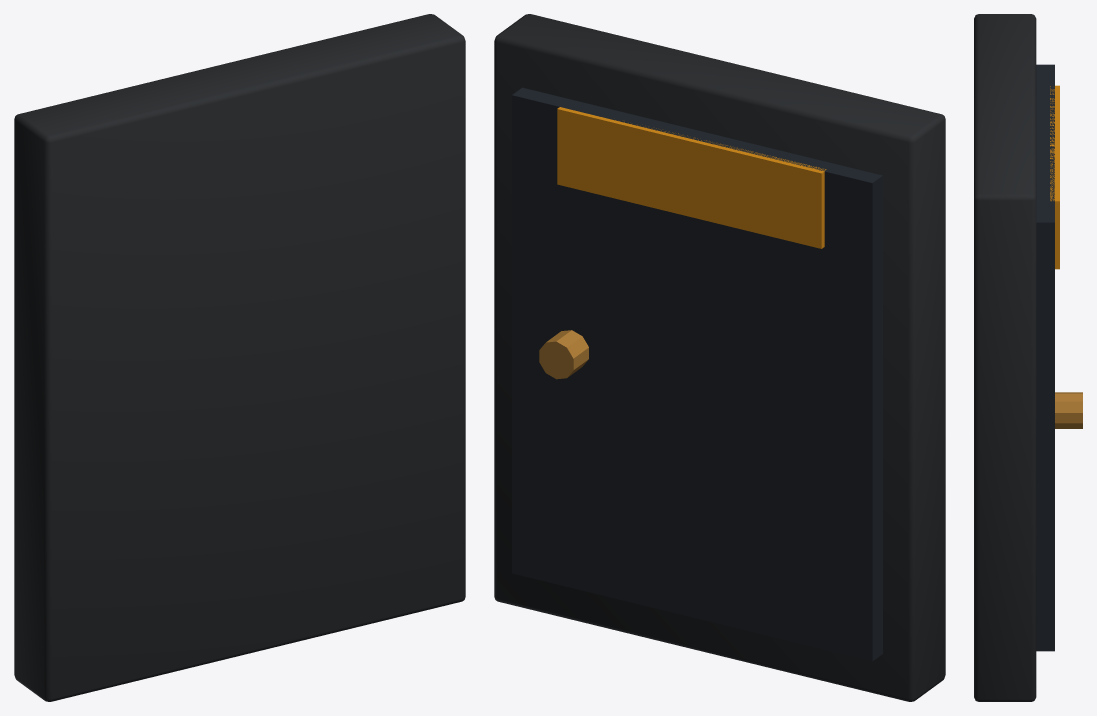
The model's file is hm_bank_access_panel_v2.obj.
3 renders of one model, left to right at view 1: azimuth 30°, elevation 25°; view 2: azimuth 150°, elevation 25°; view 3: azimuth 270°, elevation 25°, orthographic. The views are drawn at different scales.
Parts seen in each view (by area): view 1: AC_Panel; view 2: AC_Door, AC_Panel, AC_Warn, AC_Lock; view 3: AC_Panel, AC_Door, AC_Warn, AC_Lock.
Boxes of the visible parts, x1=… form: AC_Panel: x1=14, y1=14, x2=465, y2=701; AC_Door: x1=512, y1=87, x2=882, y2=661; AC_Panel: x1=494, y1=14, x2=945, y2=701; AC_Warn: x1=557, y1=107, x2=826, y2=248; AC_Lock: x1=539, y1=330, x2=588, y2=379; AC_Panel: x1=974, y1=14, x2=1036, y2=701; AC_Door: x1=1036, y1=64, x2=1054, y2=651; AC_Warn: x1=1050, y1=85, x2=1059, y2=269; AC_Lock: x1=1055, y1=392, x2=1082, y2=428.
Bounding box in the file's own units: 0.35 × 0.45 × 0.0875.
